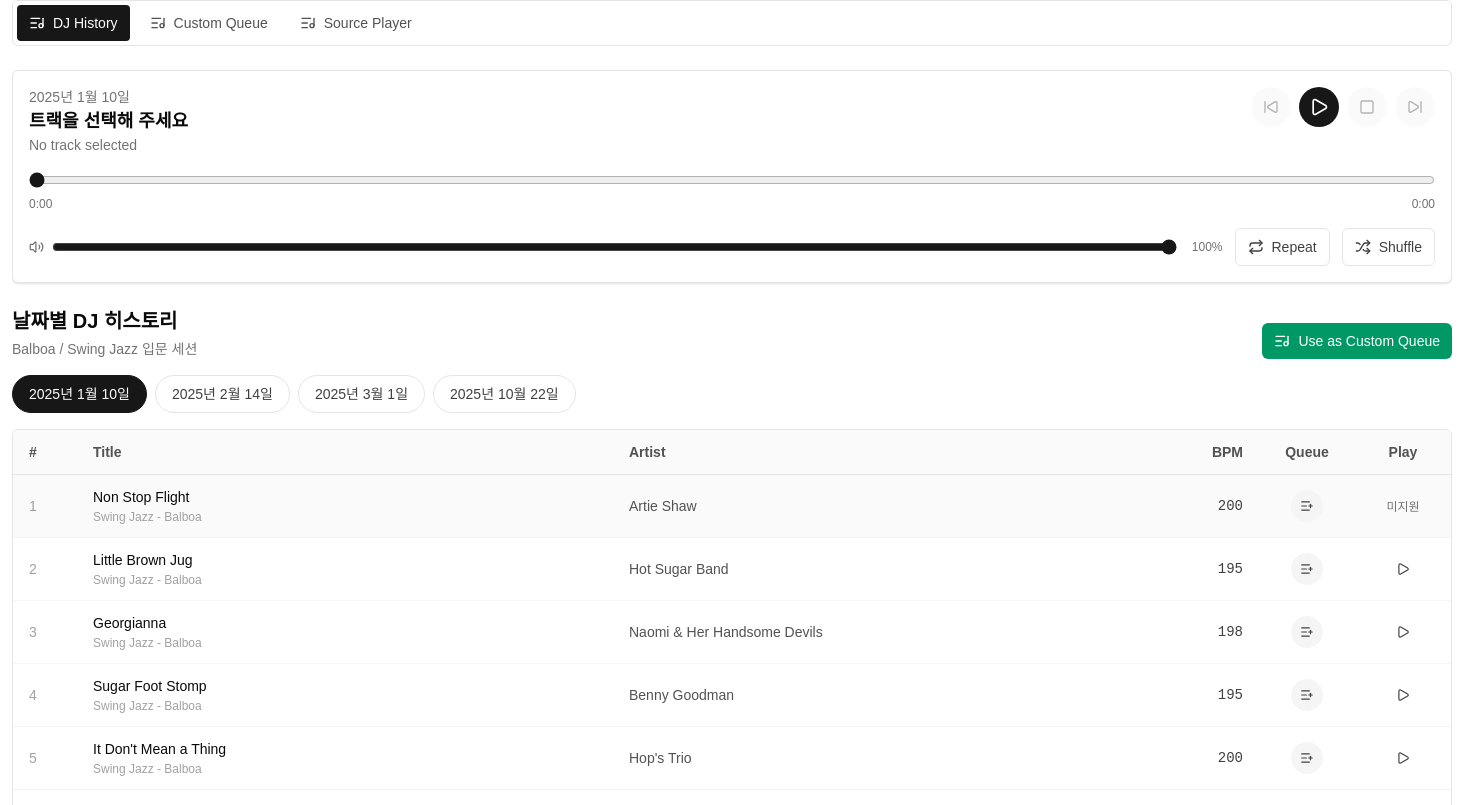
it: MusicStudio › shows the selected date track list when a DJ history date is clicked
Click the button "2025년 2월 14일".
click(222, 394)  # box x1=155 y1=375 x2=290 y2=413
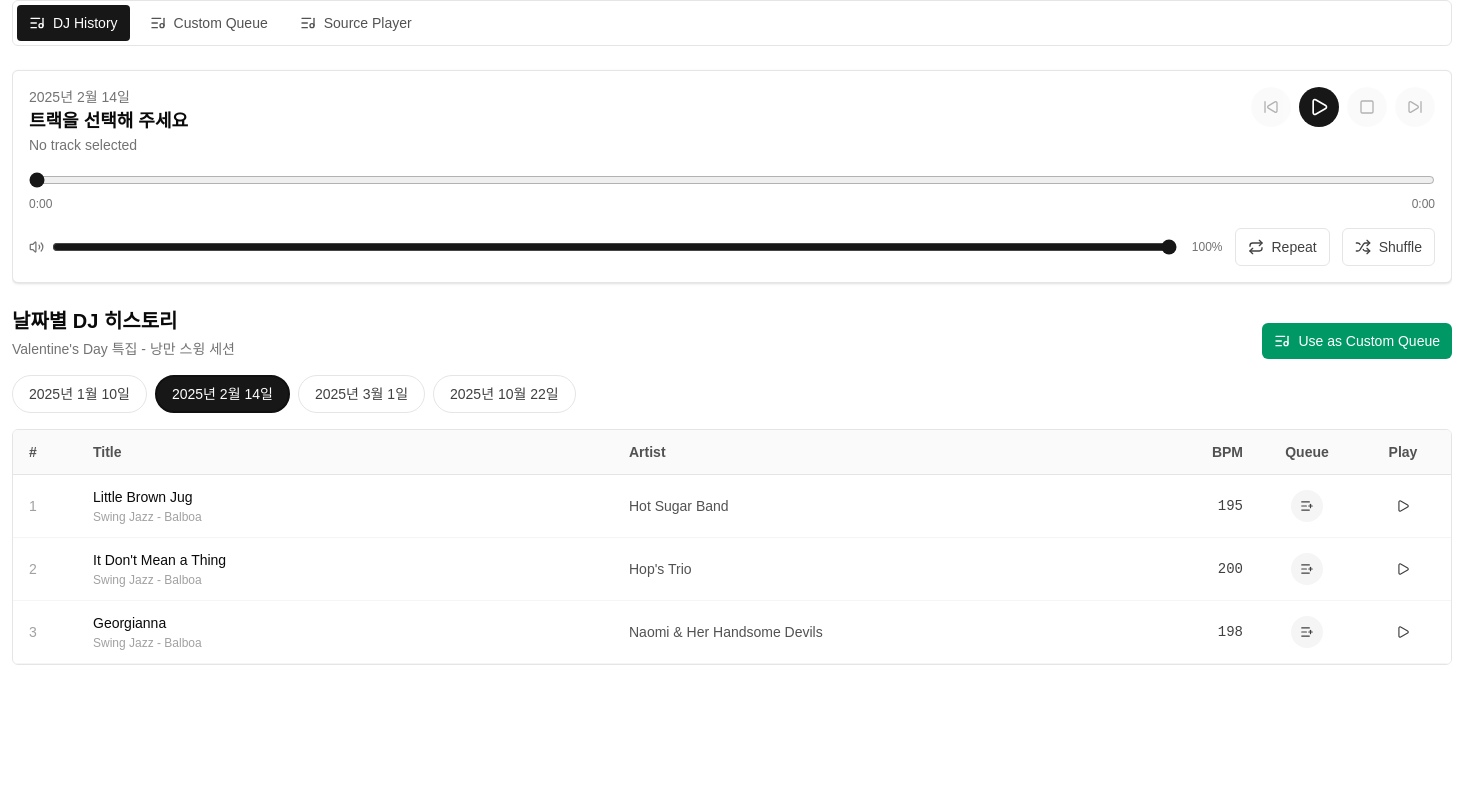
Expected: the text "Little Brown Jug" is shown, x1=93 y1=489 x2=193 y2=505
Result: the text "Valentine's Day 특집 - 낭만 스윙 세션" is shown at x1=12 y1=339 x2=235 y2=359
